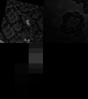spider: (0, 0, 43, 43)
zombie: (0, 43, 43, 79)
